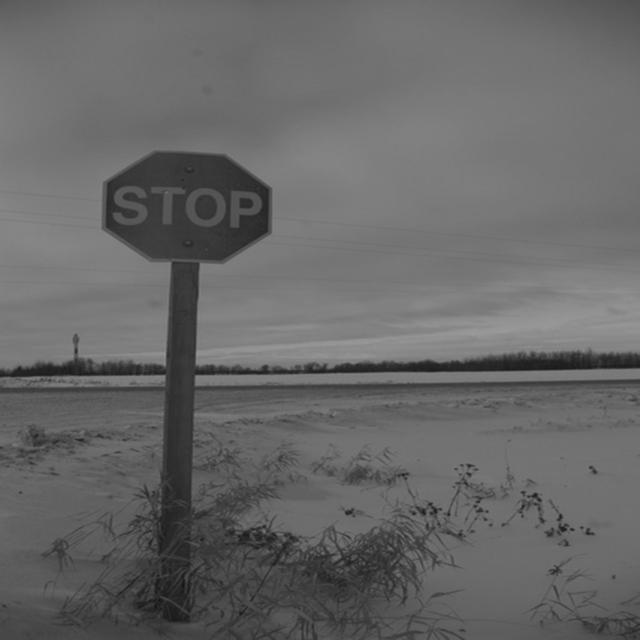pole: (149, 263, 211, 616)
